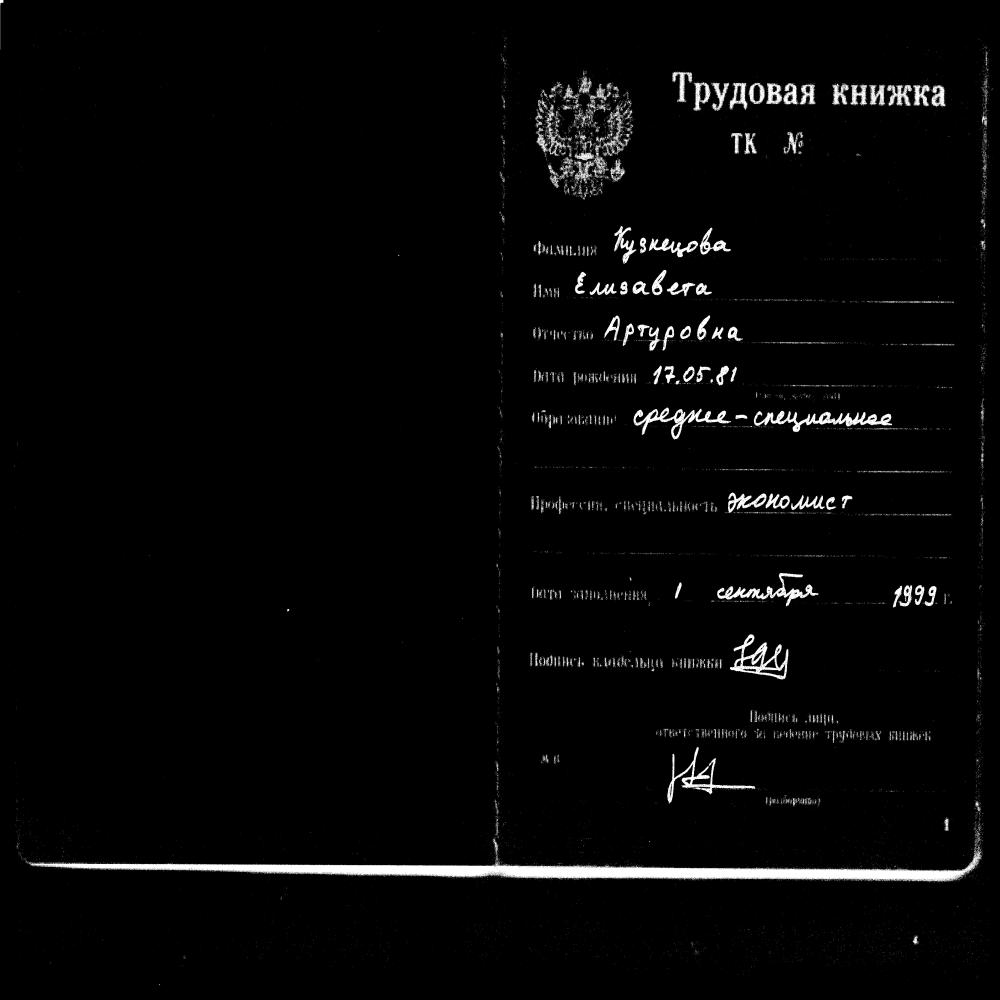rus: (663, 61, 946, 111), (629, 406, 897, 436), (572, 260, 733, 304), (594, 313, 747, 351), (726, 480, 857, 518), (608, 222, 737, 257), (651, 360, 752, 390), (715, 578, 830, 604), (886, 580, 939, 607), (669, 576, 692, 618)
